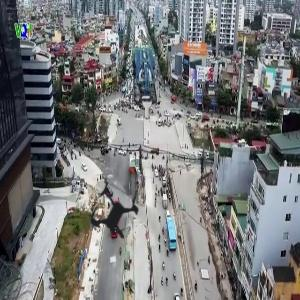drone: (59, 156, 178, 275)
